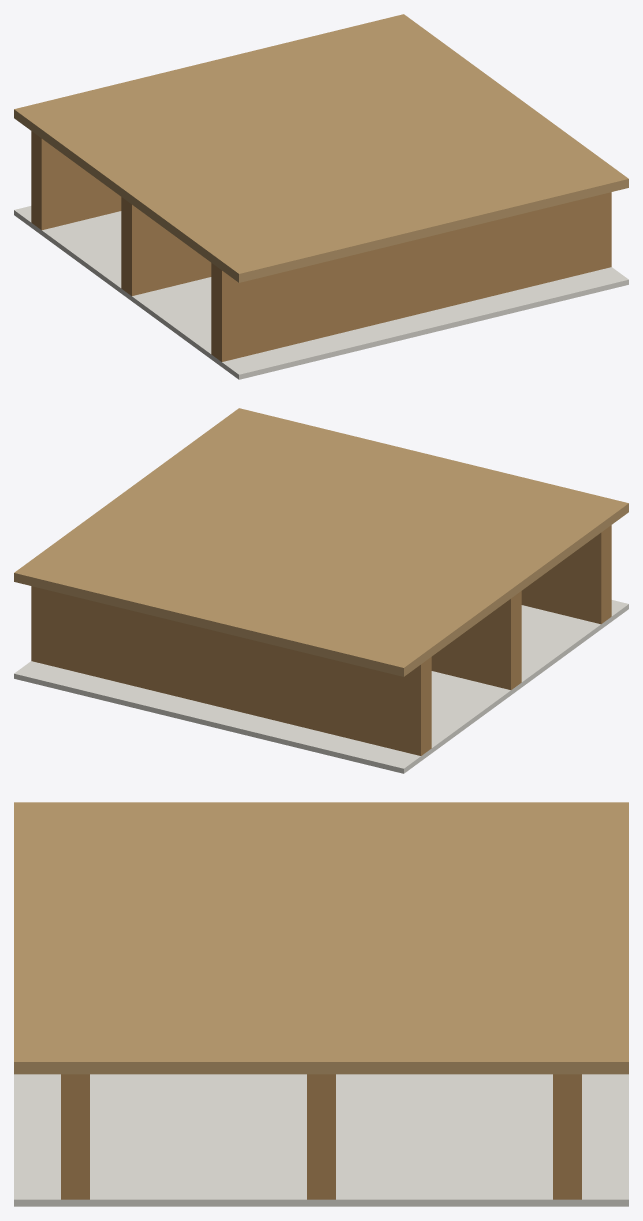
File: structure.floor.floor_joist_225.glb
3 renders of one model, top to bottom at view 1: azimuth 30°, elevation 25°; view 2: azimuth 150°, elevation 25°; view 3: azimuth 270°, elevation 25°, orthographic. The views are drawn at different scales.
Visible parts, largest first — view 1: main__plywood, main__softwood, main__plasterboard; view 2: main__plywood, main__softwood, main__plasterboard; view 3: main__plywood, main__plasterboard, main__softwood.
Boxes of the visible parts, left/top/right/bottom form: main__plywood: left=14, top=14, right=628, bottom=282; main__softwood: left=31, top=131, right=611, bottom=361; main__plasterboard: left=14, top=206, right=628, bottom=379; main__plywood: left=14, top=408, right=628, bottom=676; main__softwood: left=31, top=525, right=611, bottom=755; main__plasterboard: left=14, top=600, right=628, bottom=773; main__plywood: left=14, top=802, right=628, bottom=1074; main__plasterboard: left=14, top=1074, right=628, bottom=1206; main__softwood: left=61, top=1074, right=581, bottom=1199.
Size of the model in its own units: 1 by 0.2595 by 1.
